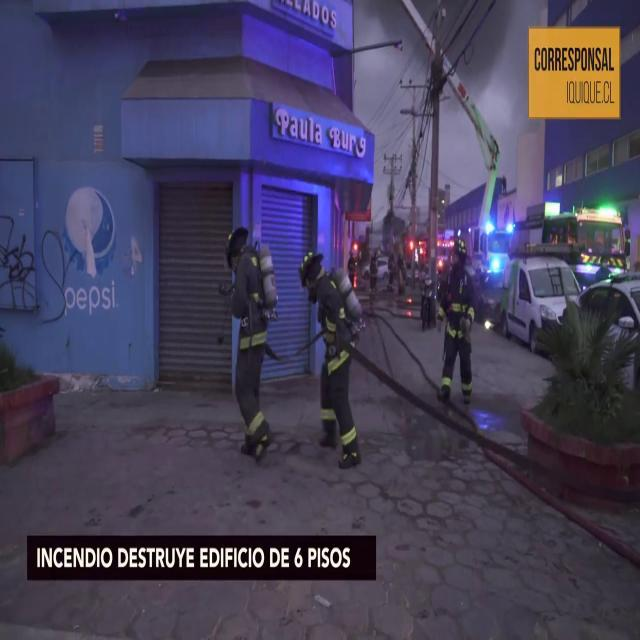Smoke: (356, 10, 532, 201)
